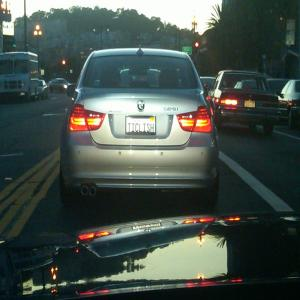Vehicle-registration-plate: (126, 117, 157, 136), (246, 101, 257, 110)
